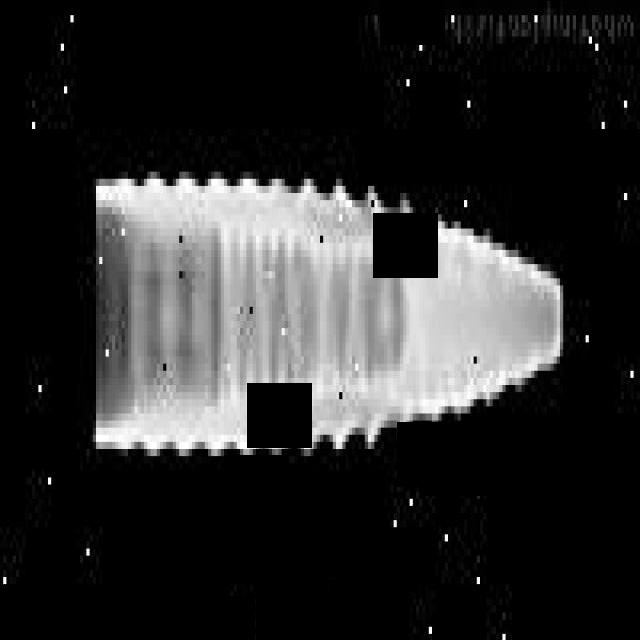Titan Implant Implant: (96, 178, 568, 454)
